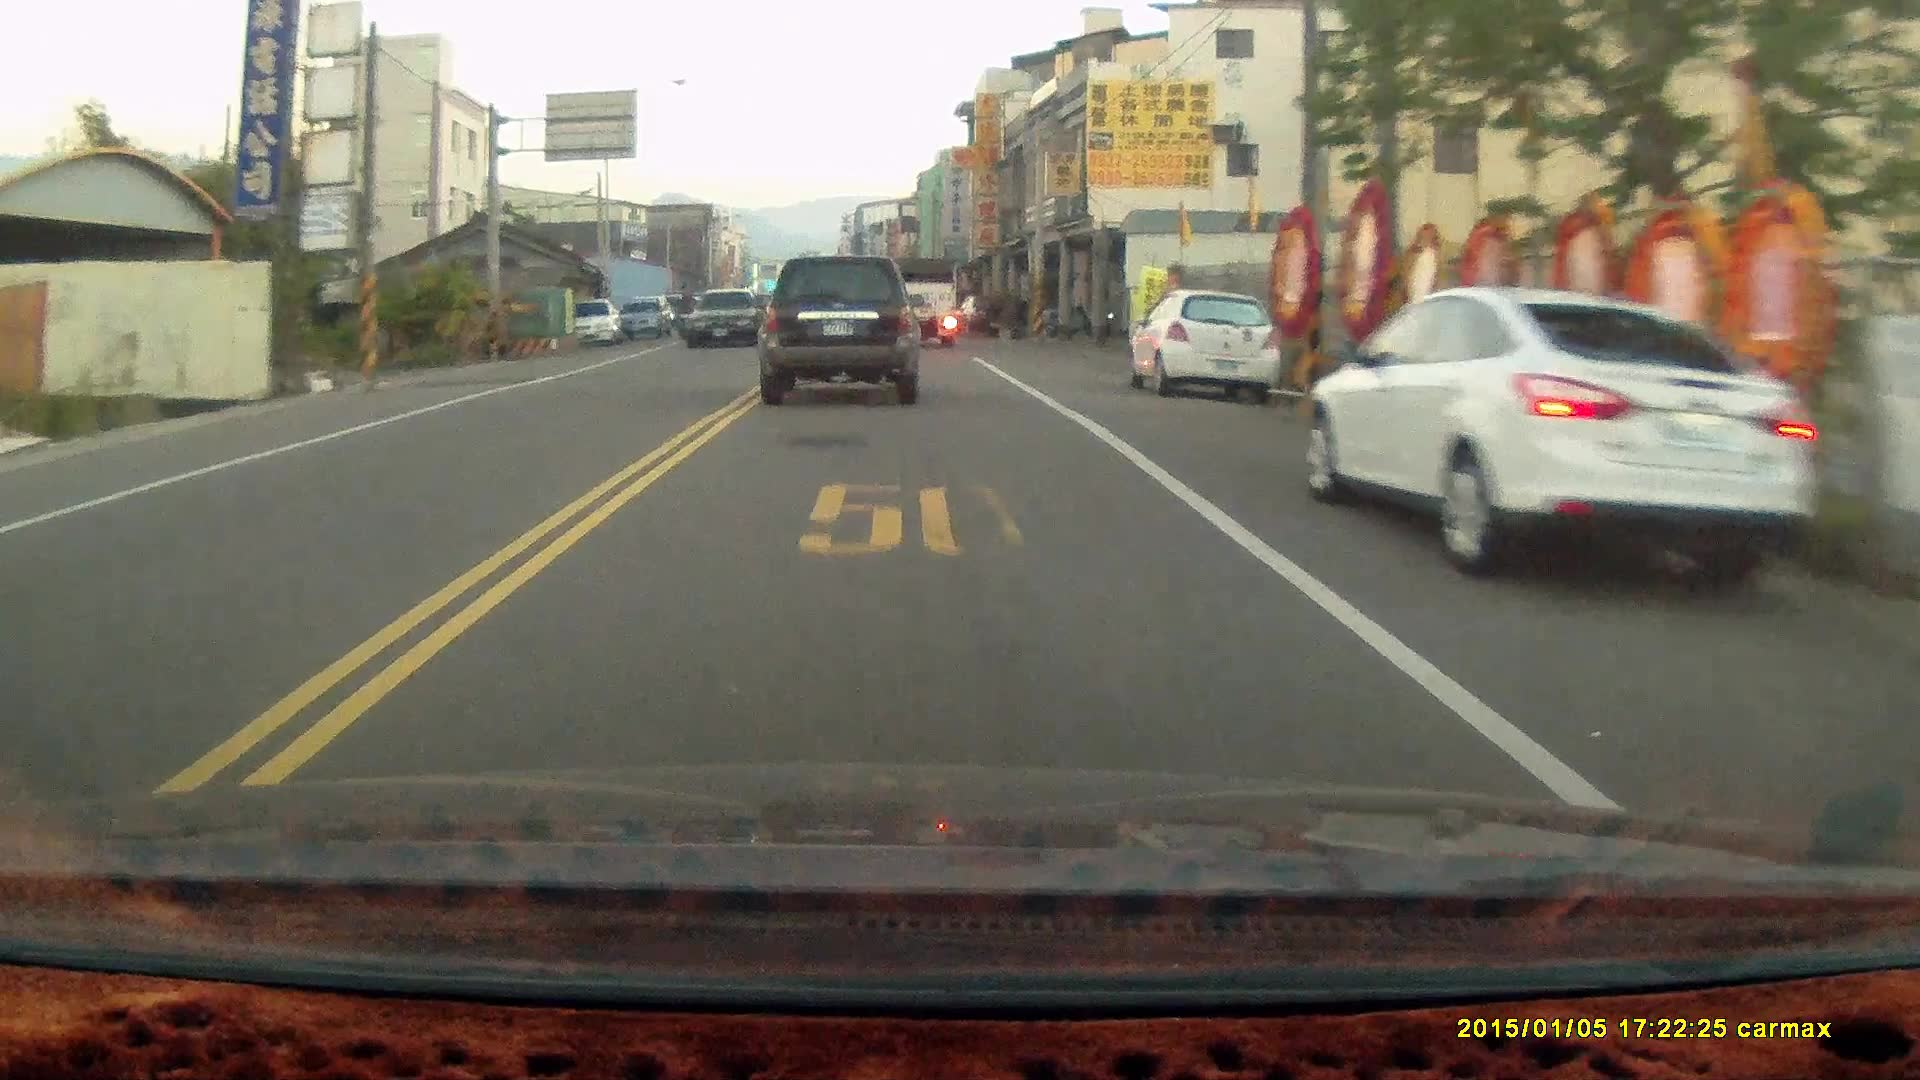vehicle: (1308, 285, 1830, 589), (756, 252, 922, 402), (1127, 291, 1284, 407), (886, 258, 963, 353), (687, 287, 766, 351)
